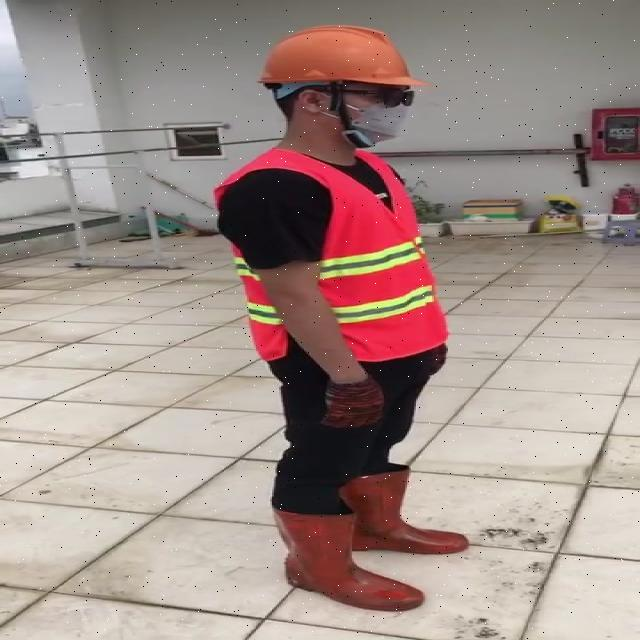Hard_hat: (248, 22, 436, 107)
Vest: (309, 148, 440, 372)
